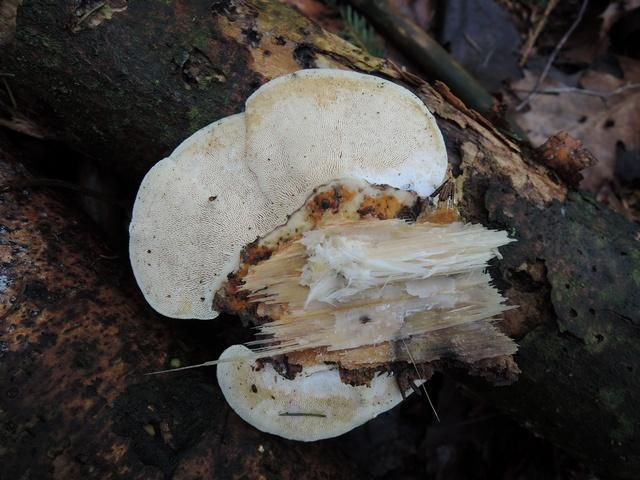Non-edible Mushroom: (126, 66, 521, 442)
